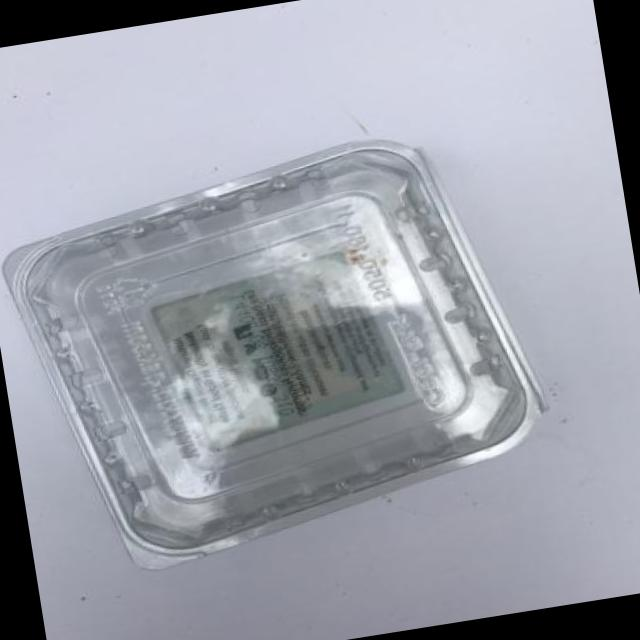Clamshell: (0, 104, 578, 592)
Label: (117, 231, 440, 468)
